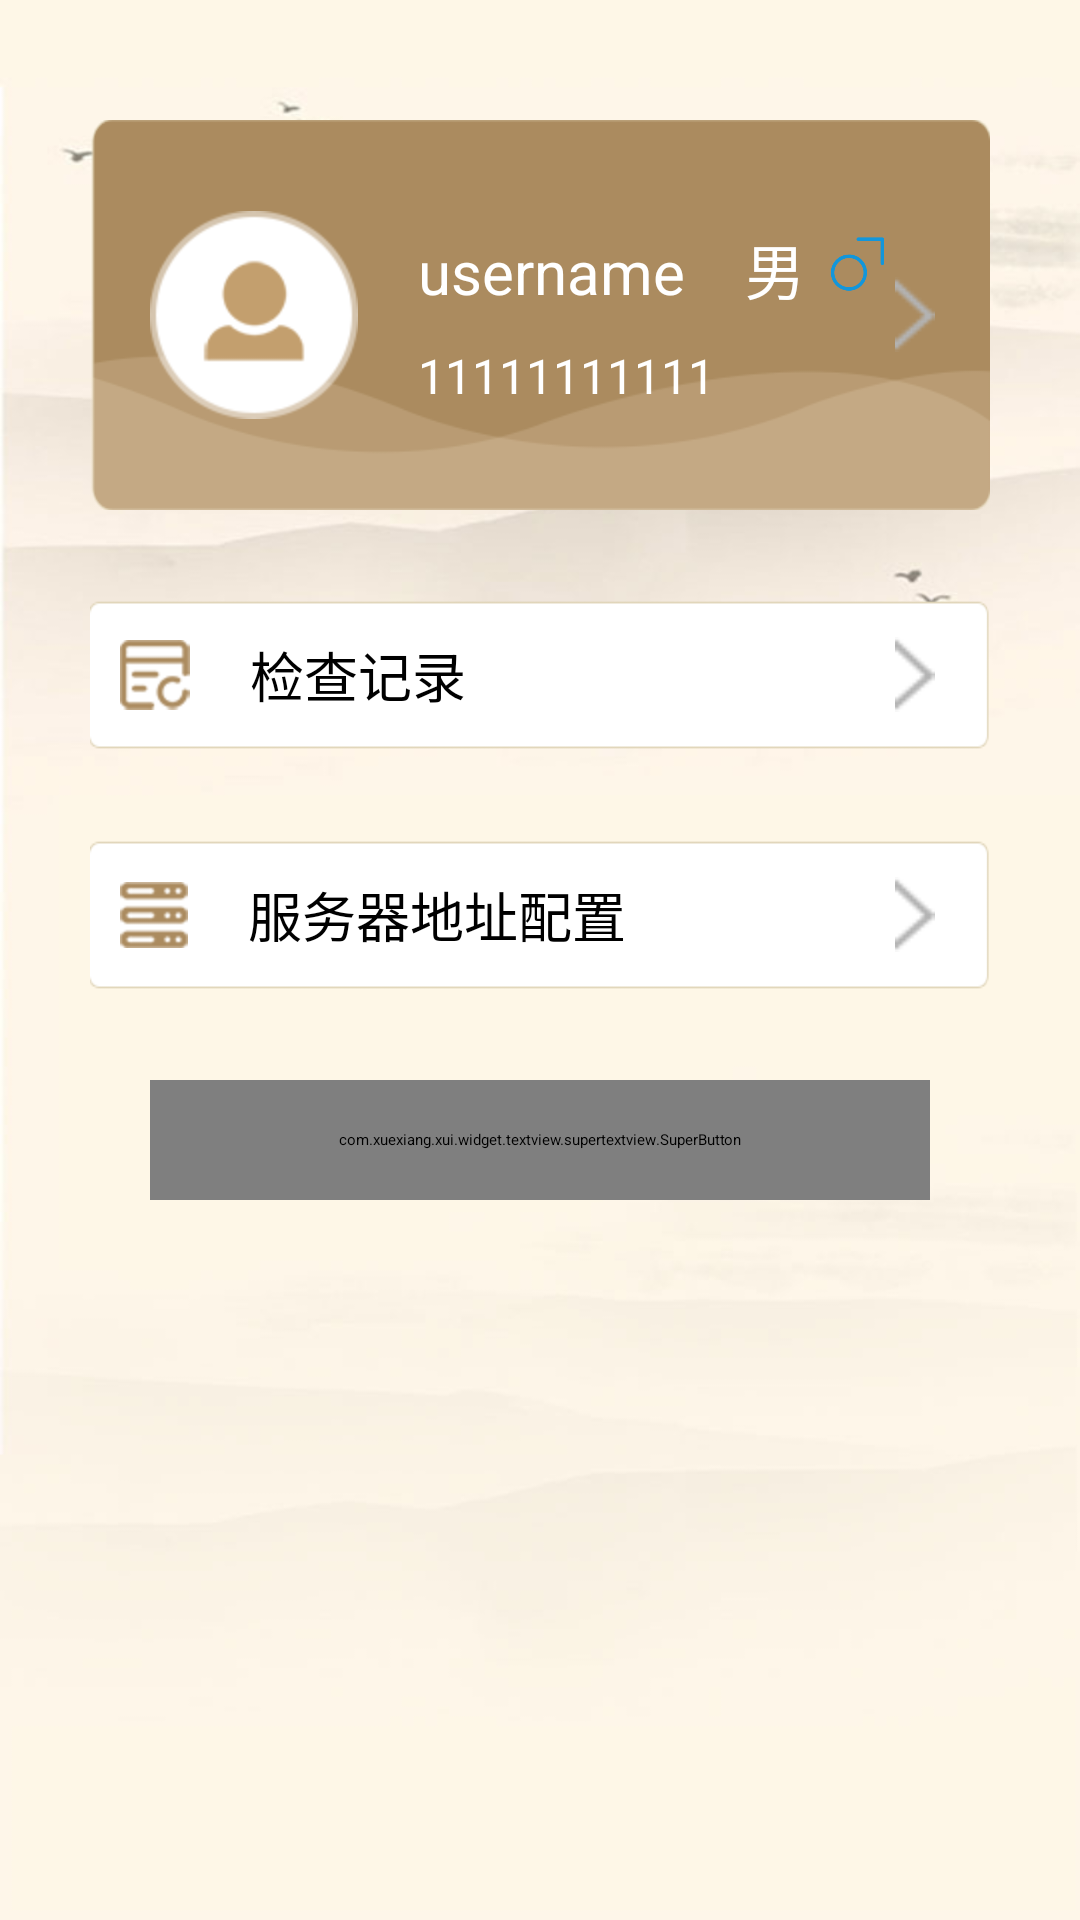

Where to tap for icons on this 1080×1920 app screen, as [x,y]:
male: [857,264]
personal: [254,315]
personal arrow: [915,314], [915,674], [915,914]
personal record: [155,675]
